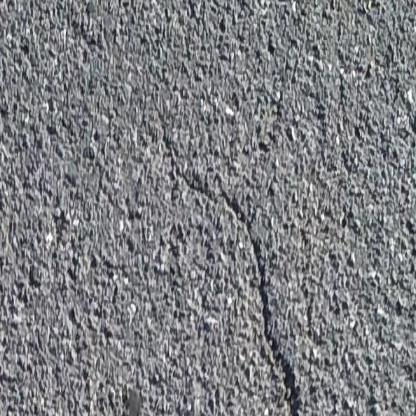Cracks: (160, 117, 307, 416)
